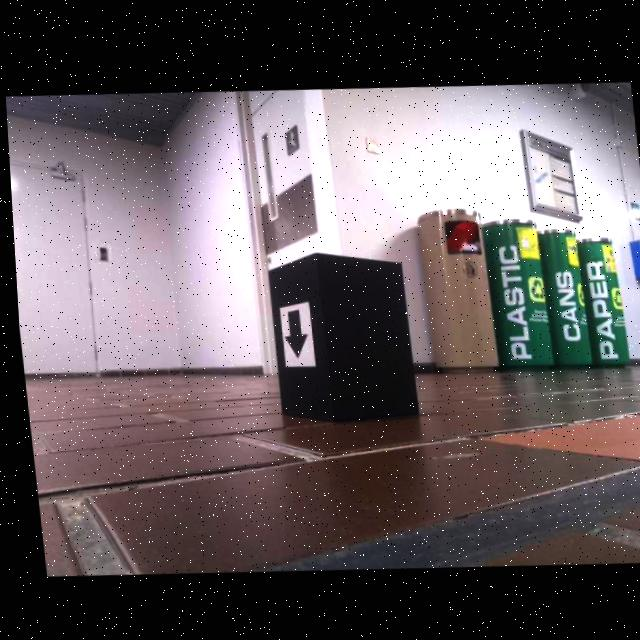DOWN: (280, 307, 305, 358)
